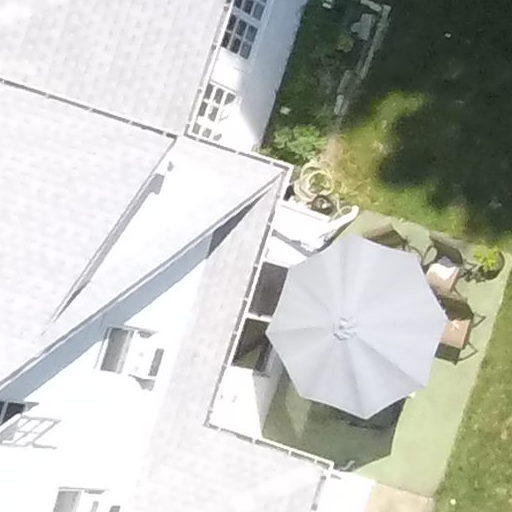chair: (420, 281, 495, 364), (414, 228, 470, 305)
container: (470, 238, 508, 281), (306, 189, 339, 219)
pot: (472, 242, 508, 290)
umbrella: (267, 213, 455, 448)
